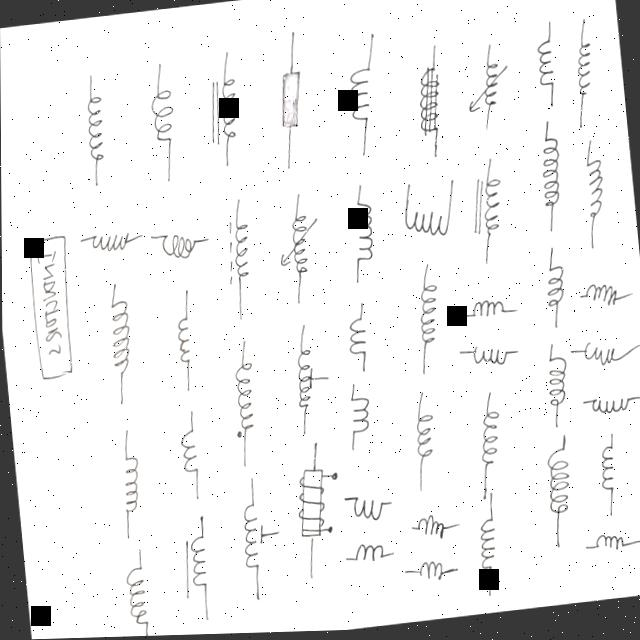inductor: (287, 453, 346, 562), (269, 203, 325, 290), (265, 56, 316, 147), (139, 67, 183, 159), (99, 288, 142, 380), (223, 348, 263, 446), (233, 493, 275, 581), (462, 61, 516, 128), (205, 64, 244, 153), (78, 81, 113, 172), (116, 555, 155, 636), (400, 196, 456, 251), (347, 192, 384, 275), (176, 526, 213, 608), (410, 275, 445, 360), (410, 59, 444, 146), (341, 51, 379, 127), (284, 341, 321, 418), (222, 211, 256, 294), (466, 164, 502, 241), (542, 439, 575, 523), (534, 130, 566, 215), (110, 441, 145, 517), (471, 395, 503, 474), (540, 352, 573, 422), (579, 274, 621, 327), (404, 400, 438, 465), (576, 157, 608, 224), (84, 222, 136, 263), (463, 293, 512, 336), (153, 222, 200, 266), (530, 29, 559, 98), (569, 33, 597, 103), (471, 509, 499, 578), (169, 304, 197, 371), (465, 340, 517, 375), (583, 332, 624, 376), (347, 484, 386, 528), (581, 391, 628, 427), (542, 259, 570, 319), (343, 312, 372, 369), (592, 444, 623, 495), (344, 390, 375, 440), (177, 419, 200, 482), (410, 510, 450, 546), (407, 559, 452, 590), (347, 537, 387, 571), (589, 531, 629, 559)
